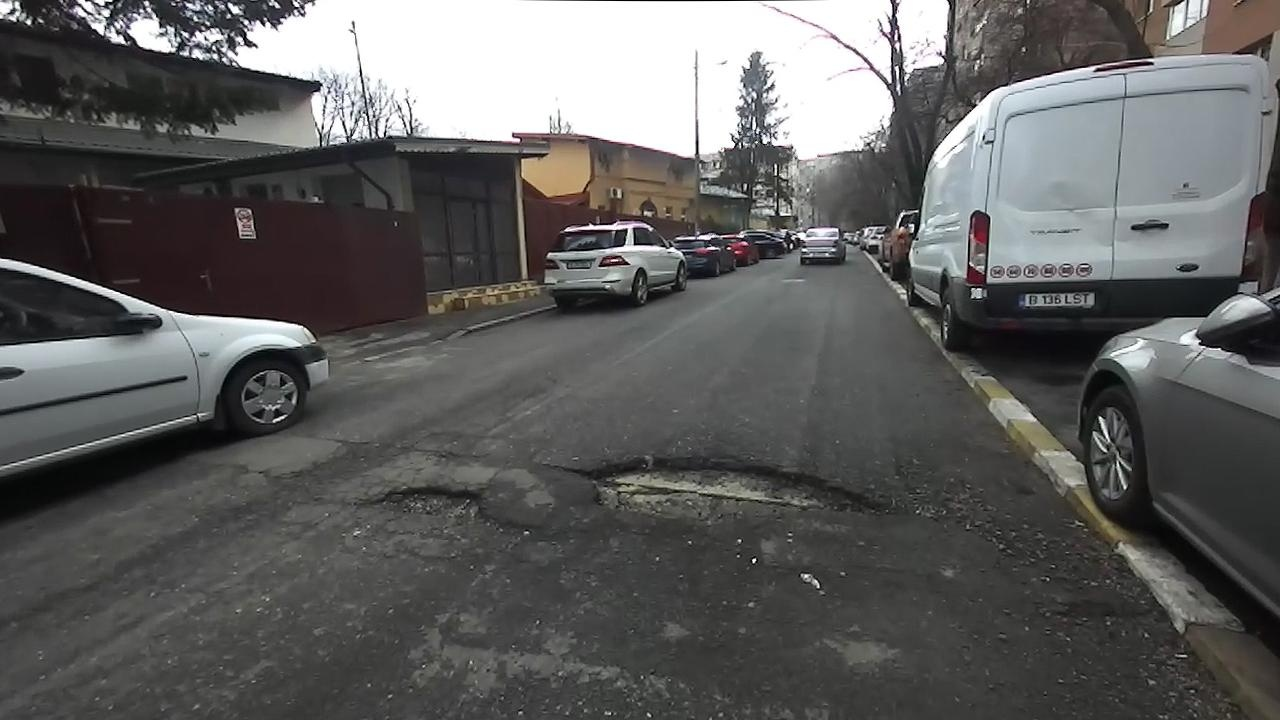pothole: (547, 445, 915, 538), (353, 479, 534, 538)
